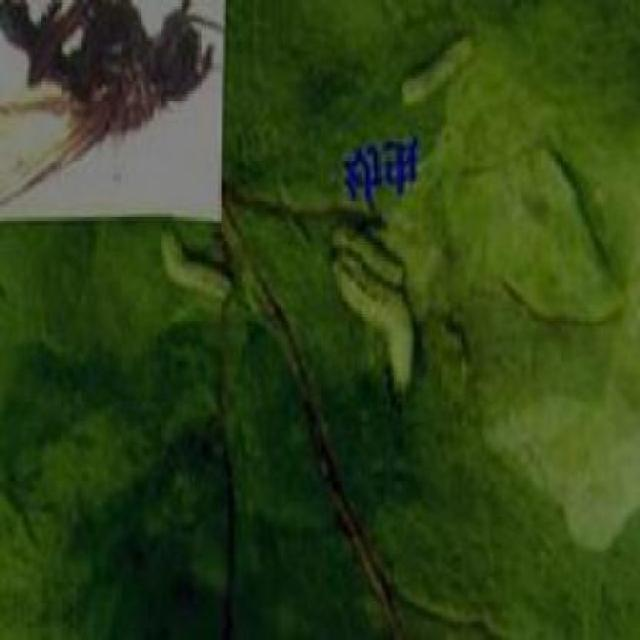whorl-maggot: (328, 216, 422, 407), (392, 29, 482, 111), (158, 225, 234, 312)
